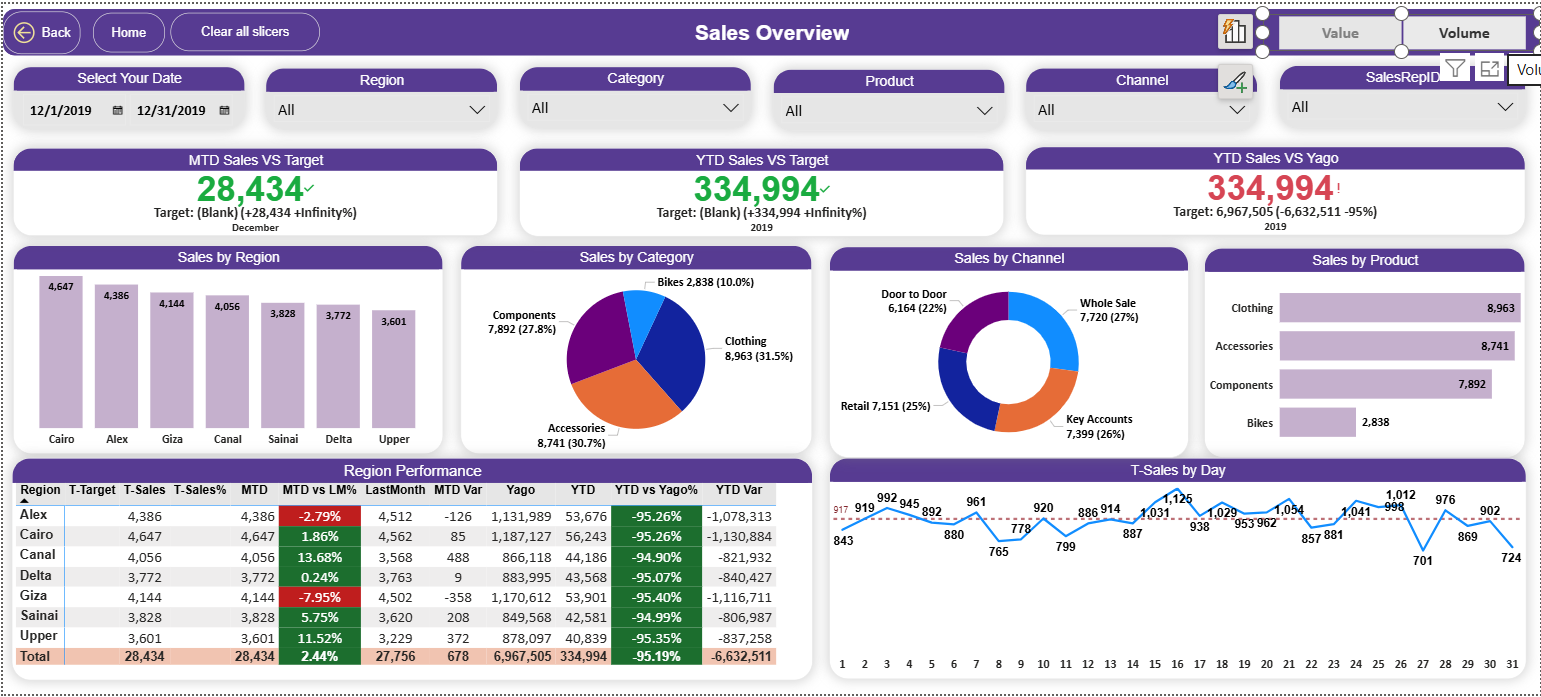

Layout of this report page (visuals, bound fields, positions):
{"tool":"powerbi","page":{"name":"Duplicate of Overview","canvas":[2050,920],"ordinal":1},"visuals":[{"type":"columnChart","title":"Sales by Region","fields":{"Category":["Dim_Region.Region"],"Y":["Val_Or_Vol_PramT.Table_Val_Or_Vol"]},"box":[13.3,322,573.9,278.6],"z":0},{"type":"shape","box":[0,7.1,2050.8,62],"z":1000},{"type":"slicer","title":"Region","fields":{"Values":["Dim_Region.Region"]},"box":[350.6,85.5,309.7,82.3],"z":2000},{"type":"slicer","title":"Product","fields":{"Values":["Dim_Product.Product"]},"box":[1026.1,87.1,309.7,82.3],"z":3000},{"type":"slicer","title":"Category","fields":{"Values":["Dim_Product.Category"]},"box":[688.4,83.9,309.7,82.3],"z":4000},{"type":"slicer","title":"Channel","fields":{"Values":["Channels.Channel"]},"box":[1363.9,85.5,309.7,83.9],"z":5000},{"type":"pieChart","title":"Sales by Category","fields":{"Category":["Dim_Product.Category"],"Y":["Val_Or_Vol_PramT.Table_Val_Or_Vol"]},"box":[610.6,322,468.8,278.6],"z":6000},{"type":"clusteredBarChart","title":"Sales by Product","fields":{"Category":["Dim_Product.Category","Dim_Product.Product"],"Y":["Val_Or_Vol_PramT.Table_Val_Or_Vol"]},"box":[1601.7,325,428.3,280],"z":7000},{"type":"slicer","title":"Select Your Date","fields":{"Values":["Calender.Date"]},"box":[12.9,83.9,309.7,83.9],"z":8000},{"type":"pivotTable","title":"Region Performance","fields":{"Rows":["Dim_Region.Region"],"Values":["#Val_Or_Vol_PramT.T-Target","Val_Or_Vol_PramT.Table_Val_Or_Vol","#Val_Or_Vol_PramT.Taget% Sales","#Val_Or_Vol_PramT.MTD-Sales","#Val_Or_Vol_PramT.MTD vs LM%","#Val_Or_Vol_PramT.MTD-LM","#Val_Or_Vol_PramT.MTD Var","#Val_Or_Vol_PramT.Yago","#Val_Or_Vol_PramT.YTD","#Val_Or_Vol_PramT.YTD vs Yago%","#Val_Or_Vol_PramT.YTD Var"]},"box":[11.7,605.6,1067.7,297],"z":9000},{"type":"lineChart","fields":{"Category":["Calender.Year","Calender.MonthN","Calender.Day"],"Y":["#Val_Or_Vol_PramT.T-Sales"]},"box":[1101.1,605.6,929.2,295.3],"z":10000},{"type":"donutChart","title":"Sales by Channel","fields":{"Category":["Channels.Channel"],"Y":["Val_Or_Vol_PramT.Table_Val_Or_Vol"]},"box":[1101.1,323.6,478.8,281.9],"z":11000},{"type":"slicer","title":"SalesRepID","fields":{"Values":["SalesData.SalesRepID"]},"box":[1701.6,82.3,329,83.9],"z":12000},{"type":"kpi","title":"MTD Sales VS Target","fields":{"TrendLine":["Calender.Date.Variation.Date Hierarchy.Month"],"Indicator":["Val_Or_Vol_PramT.Table_Val_Or_Vol"],"Goal":["#Val_Or_Vol_PramT.T-Target"]},"box":[12.9,191.9,646.8,117.7],"z":13000},{"type":"kpi","title":"YTD Sales VS Target","fields":{"TrendLine":["Calender.Year"],"Indicator":["#Val_Or_Vol_PramT.YTD"],"Goal":["#Val_Or_Vol_PramT.YTD_Target"]},"box":[688.3,191.7,646.7,118.3],"z":14000},{"type":"kpi","title":"YTD Sales VS Yago","fields":{"Indicator":["#Val_Or_Vol_PramT.YTD"],"Goal":["#Val_Or_Vol_PramT.Yago"],"TrendLine":["Calender.Date.Variation.Date Hierarchy.Year"]},"box":[1363.3,190,666.7,118.3],"z":15000},{"type":"slicer","fields":{"Values":["Val_Or_Vol_PramT.Option"]},"box":[1680,13.3,370,50],"z":16000},{"type":"actionButton","box":[0,10,103.4,56.7],"z":17000},{"type":"actionButton","box":[119.3,11.7,95.8,52.8],"z":18000},{"type":"actionButton","box":[223,11.7,199.5,50.9],"z":19000}]}

Visuals, with their boxes in screenshot pixels (x1, y1, x2, y2), scaled from the page's 2050x920 canvas onto the 1541x697 screenshot:
"Sales by Region" columnChart: select_region(10, 244, 441, 455)
shape: select_region(0, 5, 1540, 52)
"Region" slicer: select_region(264, 65, 496, 127)
"Product" slicer: select_region(771, 66, 1004, 128)
"Category" slicer: select_region(517, 64, 750, 126)
"Channel" slicer: select_region(1025, 65, 1258, 128)
"Sales by Category" pieChart: select_region(459, 244, 811, 455)
"Sales by Product" clusteredBarChart: select_region(1204, 246, 1526, 458)
"Select Your Date" slicer: select_region(10, 64, 243, 127)
"Region Performance" pivotTable: select_region(9, 459, 811, 684)
lineChart - Calender.Year x Calender.MonthN: select_region(828, 459, 1526, 683)
"Sales by Channel" donutChart: select_region(828, 245, 1188, 459)
"SalesRepID" slicer: select_region(1279, 62, 1526, 126)
"MTD Sales VS Target" kpi: select_region(10, 145, 496, 235)
"YTD Sales VS Target" kpi: select_region(517, 145, 1004, 235)
"YTD Sales VS Yago" kpi: select_region(1025, 144, 1526, 234)
slicer - Val_Or_Vol_PramT.Option: select_region(1263, 10, 1540, 48)
actionButton: select_region(0, 8, 78, 51)
actionButton: select_region(90, 9, 162, 49)
actionButton: select_region(168, 9, 318, 47)
